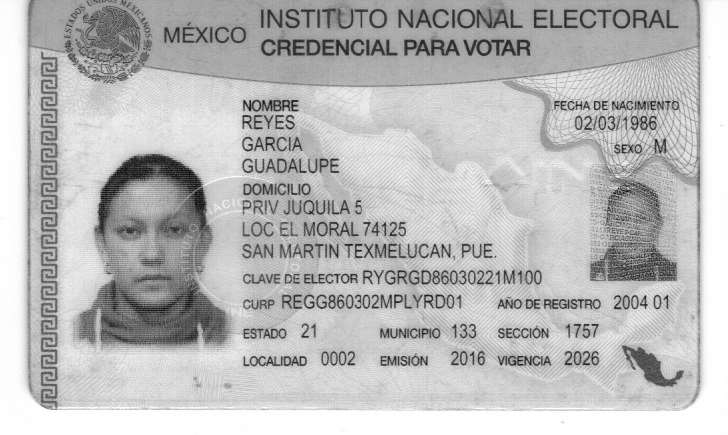ESCUDO: (64, 1, 152, 85)
MAPA: (621, 345, 685, 387)
PALABRA: (533, 8, 679, 29)
